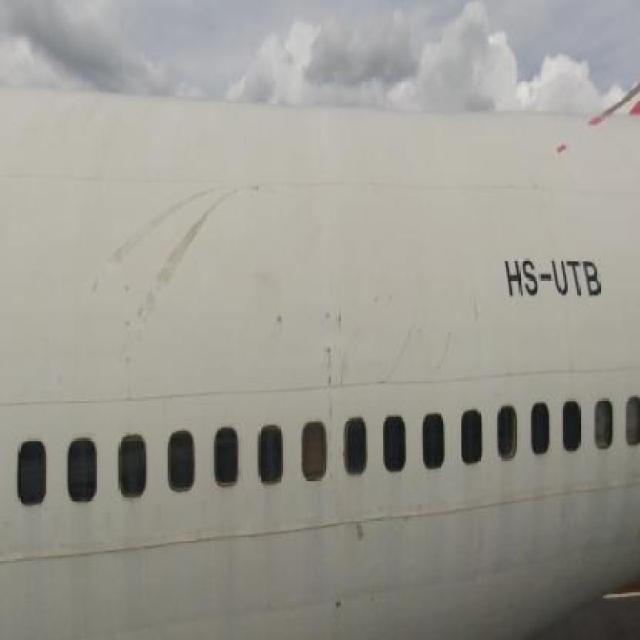Scartch: (312, 302, 354, 415), (348, 509, 372, 554)
